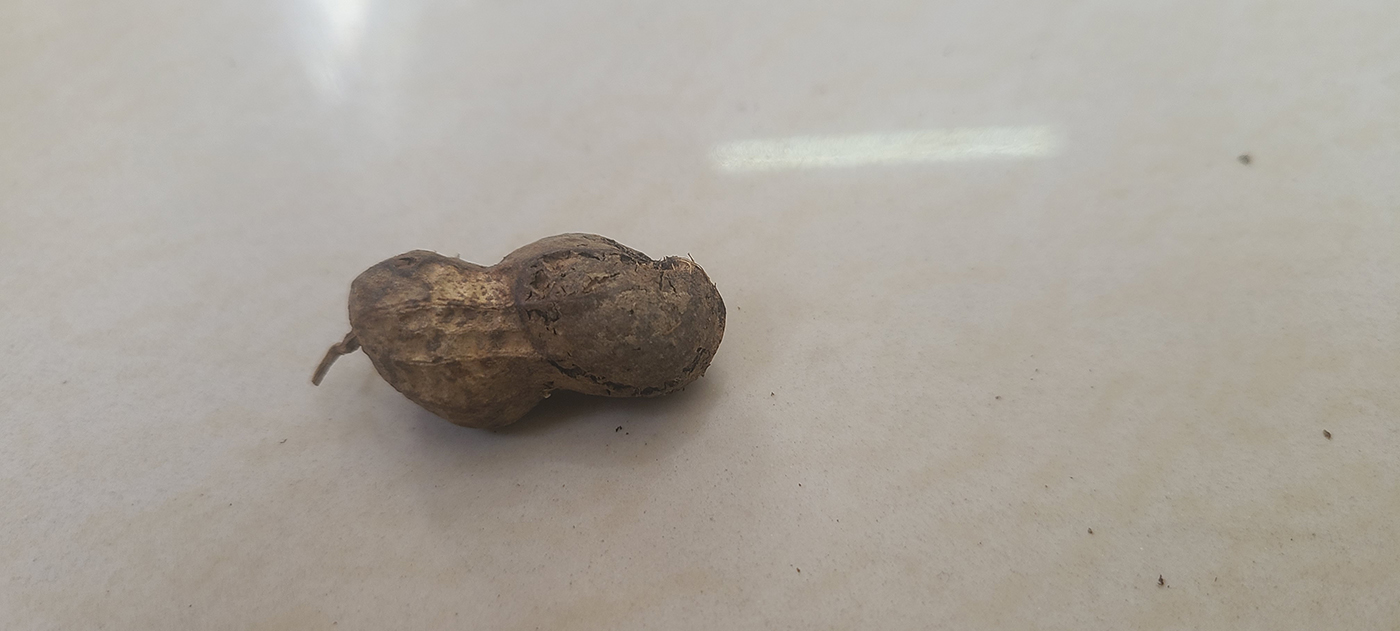l: (344, 232, 727, 429)
